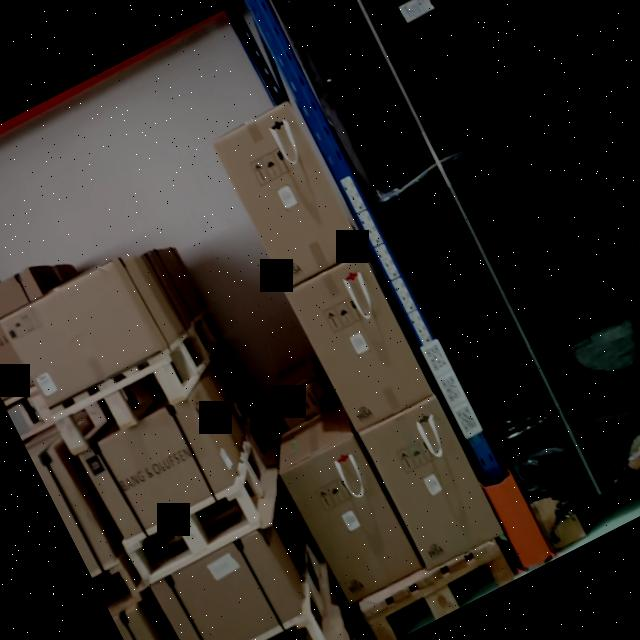box: (214, 105, 364, 288), (287, 255, 433, 432), (362, 400, 502, 568), (3, 264, 158, 408), (287, 443, 422, 604), (84, 404, 234, 535), (151, 531, 304, 640)
